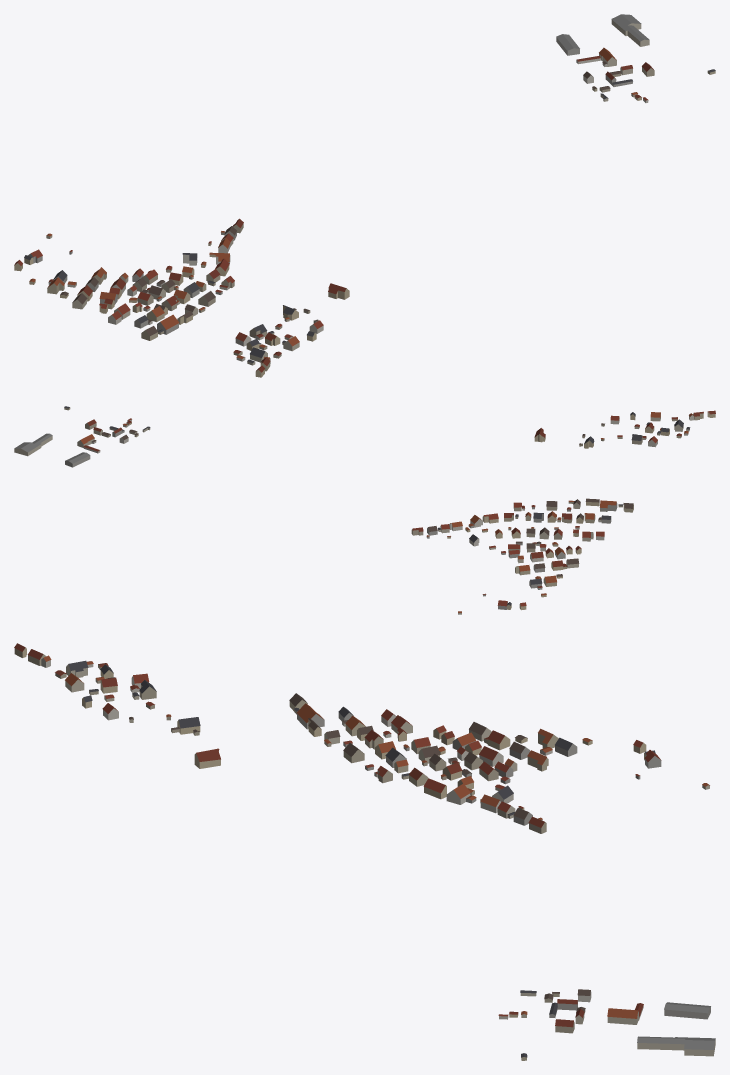
The picture shows the model from 3 angles, top to bottom: view 1: azimuth 30°, elevation 25°; view 2: azimuth 150°, elevation 25°; view 3: azimuth 270°, elevation 25°; orthographic projection. The views are drawn at different scales.
Parts seen in each view (by area): view 1: buildings; view 2: buildings; view 3: buildings.
Part boxes in pixels (<box>): buildings: <box>14,14,715,377</box>; buildings: <box>14,406,715,614</box>; buildings: <box>14,643,715,1060</box>.
Bounding box in the file's own units: 804 × 98.7 × 586.
